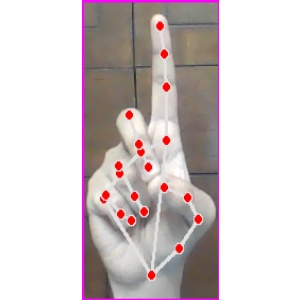D: (81, 1, 219, 300)
